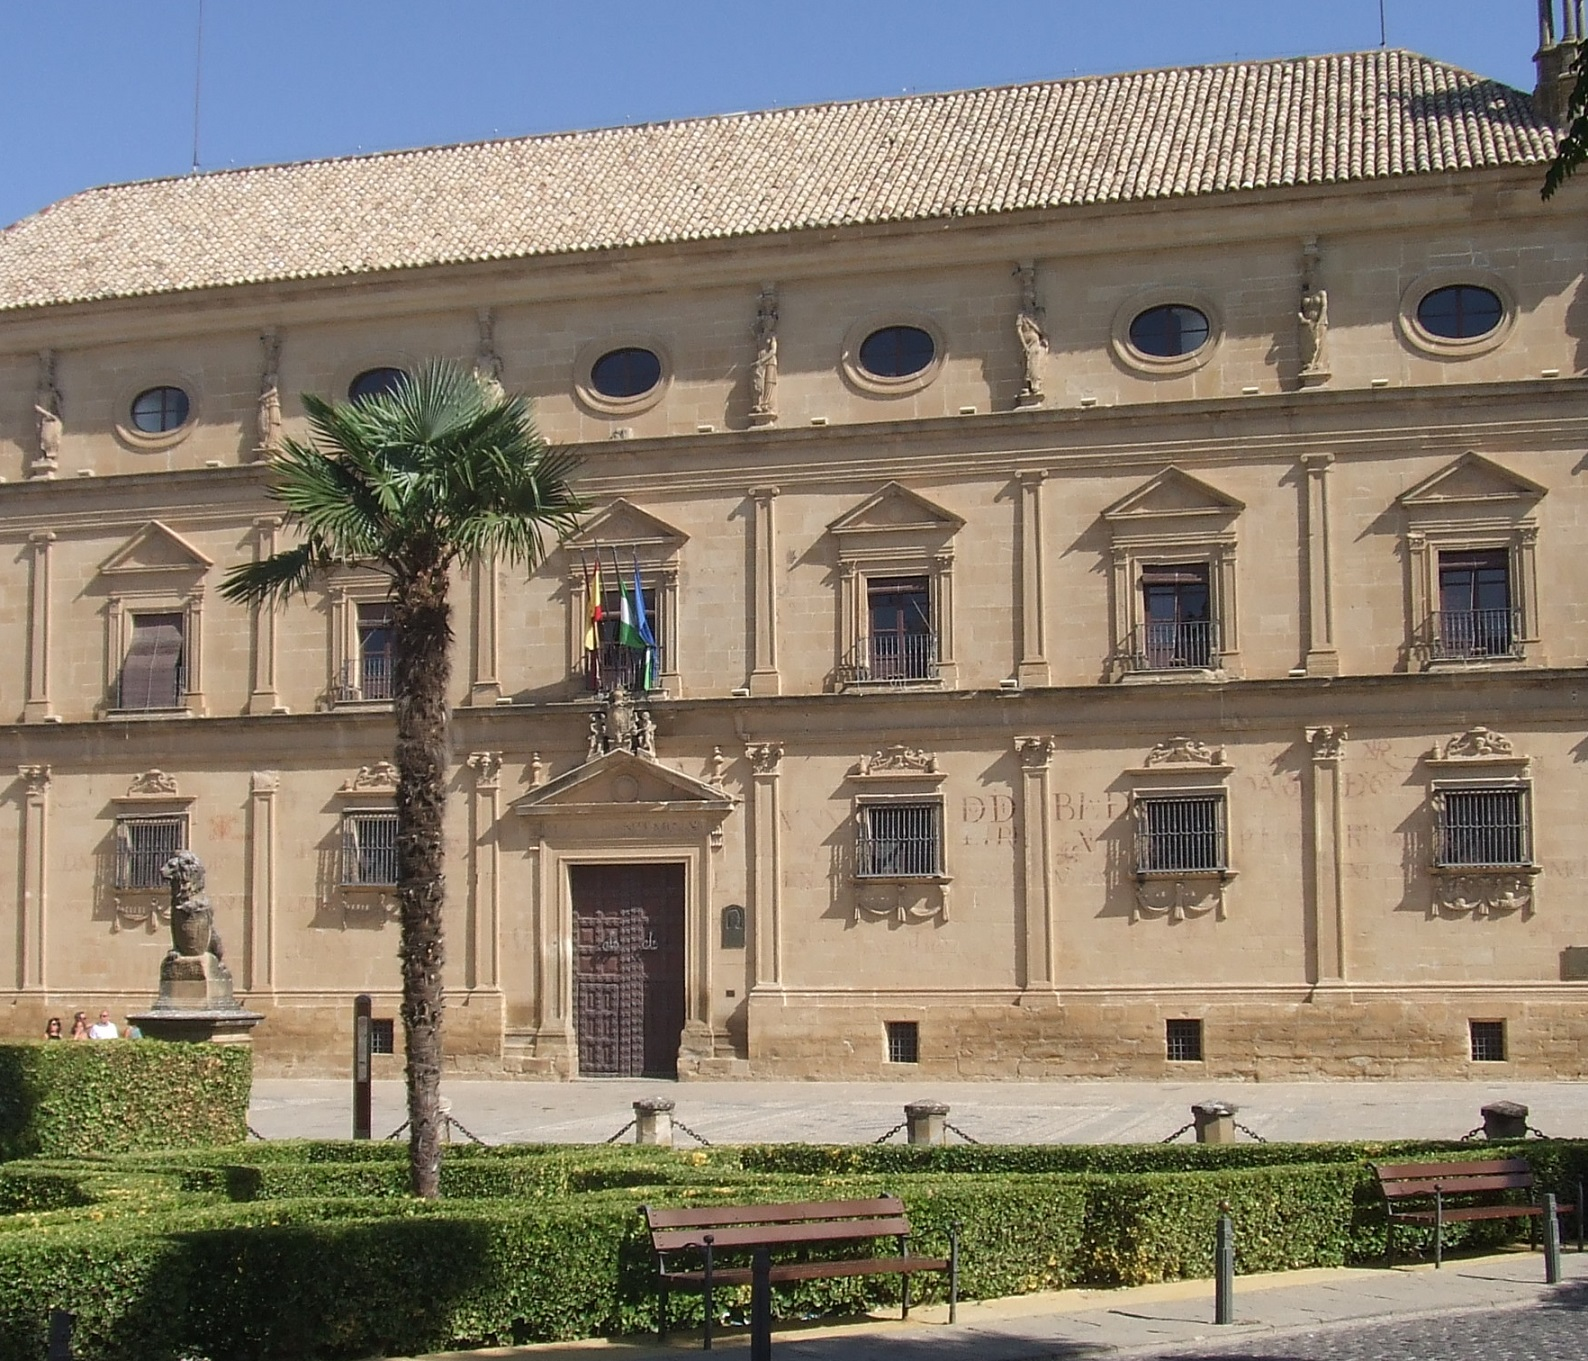fronton: (505, 747, 743, 817), (1398, 444, 1549, 509), (1099, 464, 1249, 527), (821, 481, 974, 541), (554, 494, 694, 552), (95, 514, 215, 582)
ojo-de-buey: (1406, 269, 1508, 346), (1115, 293, 1217, 369), (844, 316, 944, 390), (585, 343, 668, 409), (120, 375, 194, 440)
vano-adintelado: (547, 844, 702, 1082), (1400, 510, 1543, 678), (1106, 528, 1240, 680), (835, 540, 961, 690), (97, 586, 209, 720)
